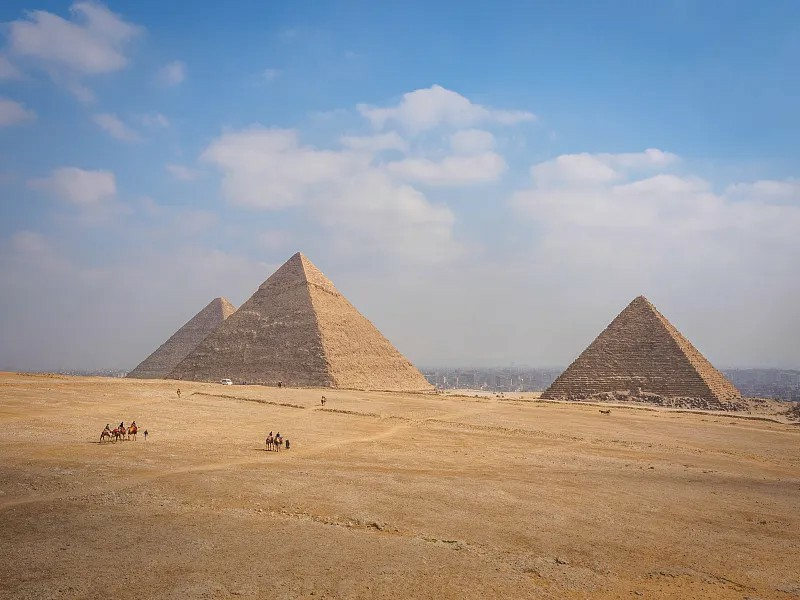Pyramid: (165, 251, 440, 392), (540, 296, 742, 407), (123, 297, 238, 383)
